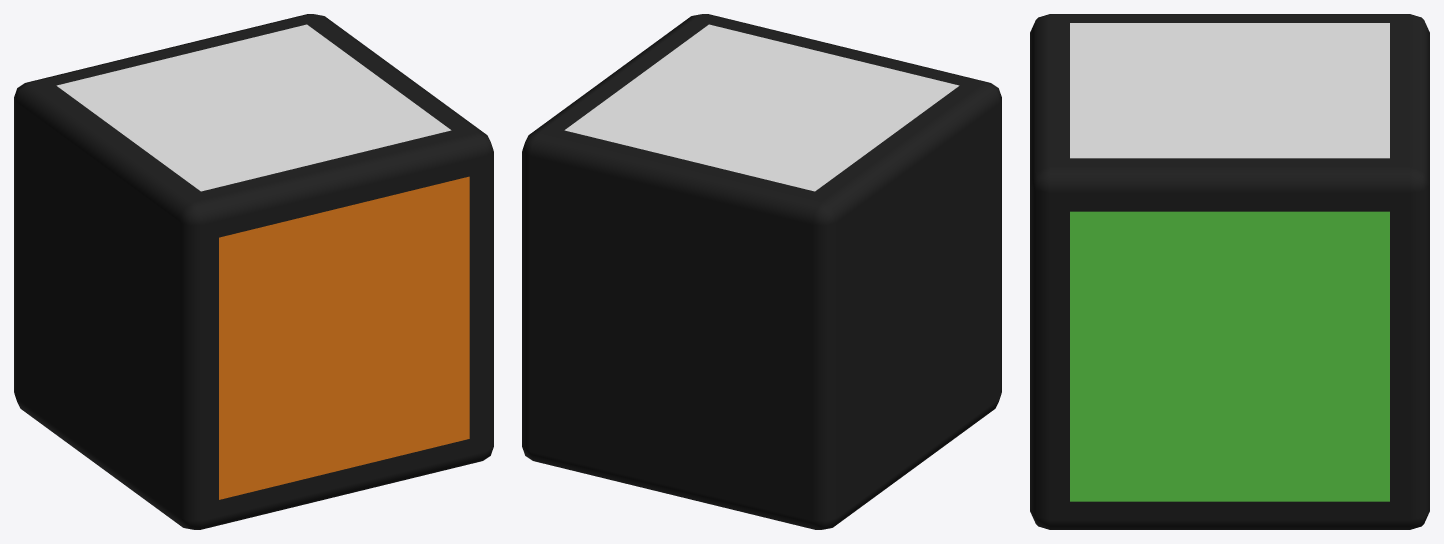
The picture shows the model from 3 angles, left to right: view 1: azimuth 30°, elevation 25°; view 2: azimuth 150°, elevation 25°; view 3: azimuth 270°, elevation 25°; orthographic projection. The views are drawn at different scales.
Visible parts, largest first — view 1: 25; view 2: 25; view 3: 25.
Boxes of the visible parts, x1,y1,x2,y2 form: 25: (14,14,493,529); 25: (522,14,1001,529); 25: (1030,14,1429,529).
Bounding box in the file's own units: 2 × 2 × 2.
